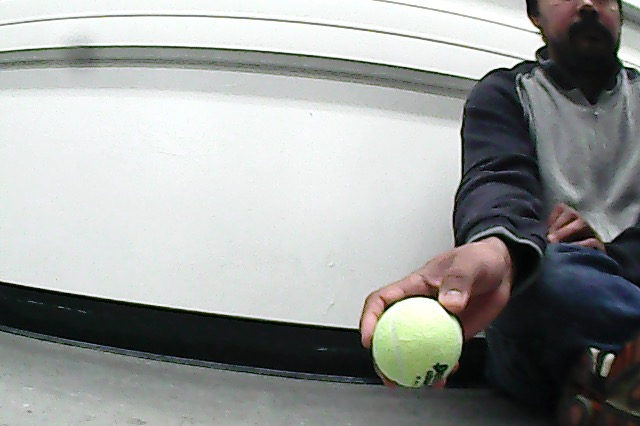ball: (370, 293, 466, 392)
